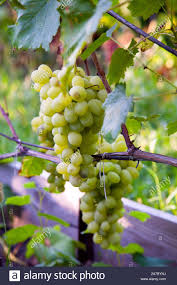grapes: (31, 62, 98, 180), (85, 162, 136, 245)
